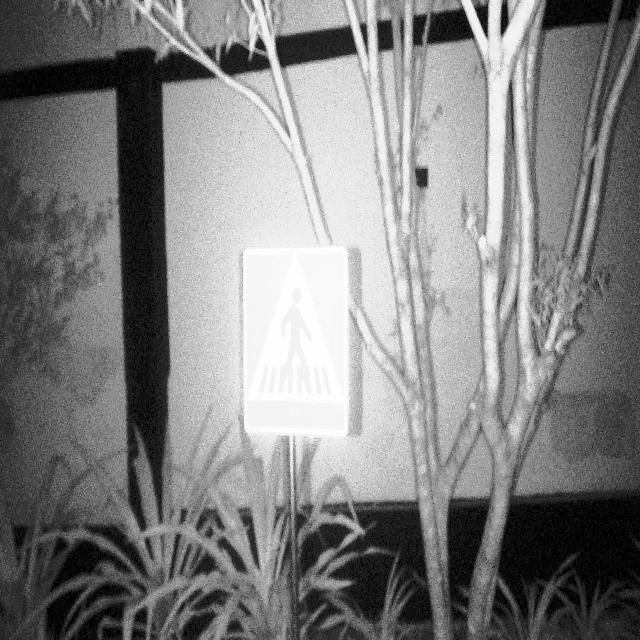Sign: (241, 244, 351, 440)
Tree: (356, 0, 616, 640)
